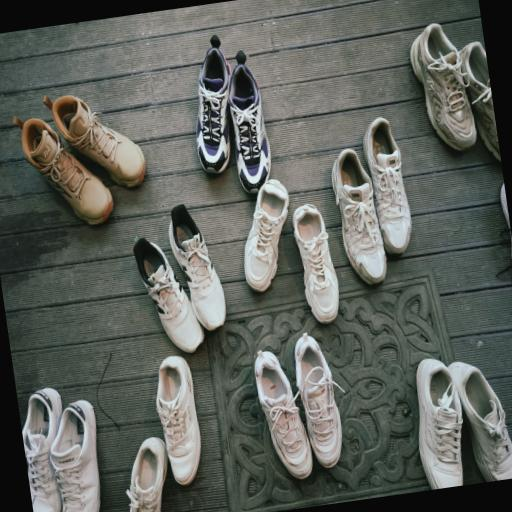shoe: (14, 118, 112, 225), (43, 96, 144, 187), (409, 24, 475, 151), (133, 237, 203, 352), (448, 362, 511, 481), (331, 149, 386, 284), (254, 351, 311, 478), (168, 205, 225, 330), (363, 118, 410, 254), (294, 334, 341, 467), (416, 359, 462, 489), (228, 51, 270, 193), (156, 357, 200, 484), (292, 204, 338, 323), (50, 401, 99, 511), (244, 180, 288, 292), (22, 388, 61, 511), (460, 42, 500, 161), (196, 36, 229, 173), (126, 438, 166, 511), (500, 183, 511, 256)
